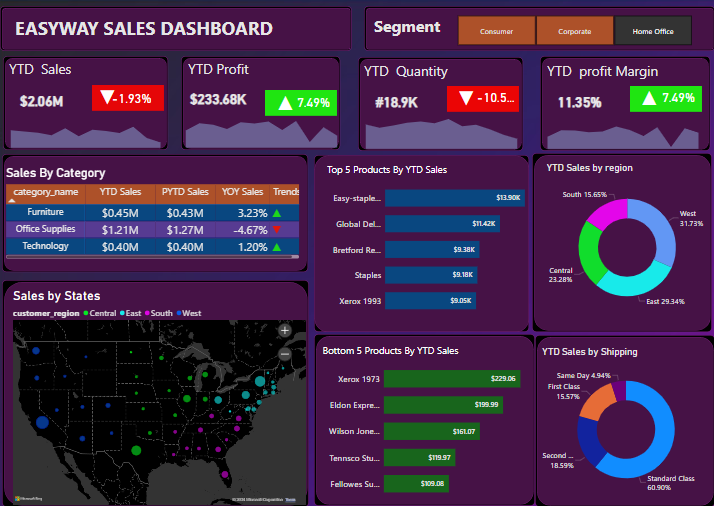

The page's visual inventory and layout, read from the dashboard file:
{"tool":"powerbi","page":{"name":"Page 1","canvas":[1700,1200],"ordinal":0},"visuals":[{"type":"group","id":"g1","title":"Group 1","box":[869.3,16.5,829.1,106.3],"z":0},{"type":"shape","box":[869.3,16.5,829.1,106.3],"z":0,"group":"g1"},{"type":"shape","box":[10,17.1,722.8,106.3],"z":0,"group":"g10"},{"type":"textbox","box":[26.5,33.6,699.2,73.2],"z":1000,"group":"g10"},{"type":"card","fields":{"Values":["Calender.YTD Sales"]},"box":[28.3,224.4,184.3,75.6],"z":1000},{"type":"shape","box":[437.5,134.6,375.6,222],"z":2000,"group":"g3"},{"type":"shape","box":[14.2,663.8,725.2,536.2],"z":2000},{"type":"shape","box":[16.5,134.6,389.8,222],"z":3000,"group":"g2"},{"type":"shape","box":[635.9,214.9,170.1,61.4],"z":3000,"group":"g3"},{"type":"areaChart","fields":{"Category":["Calender.Month"]},"box":[850.4,304.7,406.3,73.2],"z":3000},{"type":"shape","box":[1266.1,363.8,425.2,422.8],"z":3000,"group":"g8"},{"type":"shape","box":[1272.7,794.9,425.2,406.3],"z":3000,"group":"g9"},{"type":"shape","box":[226.8,203.1,170.1,61.4],"z":4000,"group":"g2"},{"type":"shape","box":[751.2,791.3,522,406.3],"z":4000},{"type":"group","id":"g2","title":"Group 2","box":[0,134.6,406.3,222],"z":5000},{"type":"card","fields":{"Values":["ecommerce_data.YOY_Profit"]},"box":[695,210.2,111,66.1],"z":5000,"group":"g3"},{"type":"areaChart","fields":{"Y":["Sum(ecommerce_data.sales_per_order)"],"Category":["Calender.Month"]},"box":[0,283.4,406.3,73.2],"z":5000,"group":"g2"},{"type":"group","id":"g3","title":"Group 3","box":[429.9,134.6,394.5,222],"z":6000},{"type":"shape","box":[1285.4,134.6,401.6,224.4],"z":6000,"group":"g5"},{"type":"shape","box":[855.1,137,389.8,222],"z":6000,"group":"g4"},{"type":"shape","box":[14.2,365.8,722.8,278.7],"z":6000,"group":"g6"},{"type":"group","id":"g4","title":"Group 4","box":[855.1,137,394.5,222],"z":7000},{"type":"card","fields":{"Values":["ecommerce_data.YOY"]},"box":[264.6,200.7,111,66.1],"z":7000,"group":"g2"},{"type":"card","fields":{"Values":["ecommerce_data.Profit Icon"]},"box":[647.7,210.2,73.2,63.8],"z":7000,"group":"g3"},{"type":"shape","box":[751.2,368.5,507.9,418.1],"z":7000,"group":"g7"},{"type":"group","id":"g5","title":"Group 4","box":[1285.4,134.6,401.6,224.4],"z":8000},{"type":"card","fields":{"Values":["ecommerce_data.Sales icon"]},"box":[226.8,196,73.2,63.8],"z":9000,"group":"g2"},{"type":"shape","box":[1065.3,205.5,170.1,61.4],"z":9000,"group":"g4"},{"type":"shape","box":[1497.7,205.5,170.1,61.4],"z":9000,"group":"g5"},{"type":"barChart","title":"Bottom 5 Products By YTD Sales ","fields":{"Y":["Calender.YTD Sales"],"Category":["ecommerce_data.product_name"]},"box":[751.2,793.7,522,403.9],"z":9000},{"type":"map","title":" Sales by States","fields":{"Y":["us_state_long_lat_codes.latitude"],"X":["us_state_long_lat_codes.longitude"],"Size":["Calender.YTD Sales"],"Series":["ecommerce_data.customer_region"]},"box":[35.4,663.8,701.6,536.2],"z":10000},{"type":"group","id":"g6","title":"Group 5","box":[14.2,365.8,722.8,278.7],"z":11000},{"type":"group","id":"g7","title":"Group 7","box":[751.2,368.5,507.9,418.1],"z":12000},{"type":"pivotTable","title":"Sales By Category","fields":{"Rows":["ecommerce_data.category_name"],"Values":["Calender.YTD Sales","ecommerce_data.PYTD Sales","ecommerce_data.YOY Sales","ecommerce_data.Sales icon"]},"box":[18.9,394.5,701.6,224.4],"z":12000,"group":"g6"},{"type":"areaChart","fields":{"Category":["Calender.Month"],"Y":["Sum(ecommerce_data.profit_per_order)"]},"box":[429.9,261.5,394.5,94.5],"z":13000,"group":"g3"},{"type":"group","id":"g8","title":"Group 8","box":[1266.1,363.8,425.2,422.8],"z":13000},{"type":"barChart","title":"Top 5 Products By YTD Sales ","fields":{"Y":["Calender.YTD Sales"],"Category":["ecommerce_data.product_name"]},"box":[777.2,371,479.5,393.5],"z":13000,"group":"g7"},{"type":"donutChart","title":"YTD Sales by region","fields":{"Y":["Calender.YTD Sales"],"Category":["ecommerce_data.customer_region"]},"box":[1280.6,368.9,406.3,394.5],"z":13008,"group":"g8"},{"type":"donutChart","title":"YTD Sales by Shipping","fields":{"Y":["Calender.YTD Sales"],"Category":["ecommerce_data.shipping_type"]},"box":[1284.5,821.5,406.3,334.6],"z":13008,"group":"g9"},{"type":"card","fields":{"Values":["ecommerce_data.YTD_profit"]},"box":[449.3,196,151.2,75.6],"z":14000,"group":"g3"},{"type":"group","id":"g9","title":"Group 8","box":[1272.7,794.9,425.2,406.3],"z":14000},{"type":"slicer","fields":{"Values":["ecommerce_data.customer_segment"]},"box":[1065.4,23.6,602.4,92.1],"z":15000},{"type":"card","fields":{"Values":["ecommerce_data.YOY Order_quantity"]},"box":[1124.4,198.4,111,66.1],"z":15000,"group":"g4"},{"type":"card","fields":{"Values":["ecommerce_data.YOY_Profit"]},"box":[1556.7,198.4,111,66.1],"z":15000,"group":"g5"},{"type":"group","id":"g10","title":"Group 1","box":[10,17.1,722.8,106.3],"z":16000},{"type":"textbox","box":[449.3,137,170.1,66.1],"z":16000,"group":"g3"},{"type":"textbox","box":[888.2,33.1,193.7,82.7],"z":16001},{"type":"card","fields":{"Values":["Calender.YTD Sales"]},"box":[16.5,207.8,181.9,63.8],"z":17000,"group":"g2"},{"type":"areaChart","fields":{"Category":["Calender.Month"],"Y":["Sum(ecommerce_data.order_quantity)"]},"box":[855.1,266.9,394.5,92.1],"z":17000,"group":"g4"},{"type":"areaChart","fields":{"Category":["Calender.Month"],"Y":["ecommerce_data.Profit margin"]},"box":[1286.5,269.2,392.1,89.8],"z":17000,"group":"g5"},{"type":"textbox","box":[26,137.8,172.4,59.1],"z":18000,"group":"g2"},{"type":"card","fields":{"Values":["ecommerce_data.Quantity Icon"]},"box":[1081.4,199.2,57.7,62.7],"z":21000,"group":"g4"},{"type":"card","fields":{"Values":["ecommerce_data.profit margin Icon"]},"box":[1513.7,199.2,57.7,62.7],"z":21000,"group":"g5"},{"type":"card","fields":{"Values":["ecommerce_data.YTD Concatenate"]},"box":[855.1,210.2,181.9,63.8],"z":24000,"group":"g4"},{"type":"card","fields":{"Values":["ecommerce_data.YTD profit margin"]},"box":[1287.4,210.2,181.9,63.8],"z":24000,"group":"g5"},{"type":"textbox","box":[864.5,141.7,238.6,56.7],"z":25000,"group":"g4"},{"type":"textbox","box":[1297,142.7,298.4,55.2],"z":25000,"group":"g5"}]}

Visuals, with their boxes in screenshot pixels (x1, y1, x2, y2), scaled from the page's 1700x1200 canvas onto the 714x506 screenshot:
"Group 1" group: Rect(365, 7, 713, 52)
shape: Rect(365, 7, 713, 52)
shape: Rect(4, 7, 308, 52)
textbox: Rect(11, 14, 305, 45)
card - Calender.YTD Sales: Rect(12, 95, 89, 126)
shape: Rect(184, 57, 342, 150)
shape: Rect(6, 280, 311, 505)
shape: Rect(7, 57, 171, 150)
shape: Rect(267, 91, 339, 117)
areaChart - Calender.Month: Rect(357, 128, 528, 159)
shape: Rect(532, 153, 710, 332)
shape: Rect(535, 335, 713, 505)
shape: Rect(95, 86, 167, 112)
shape: Rect(316, 334, 535, 505)
"Group 2" group: Rect(0, 57, 171, 150)
card - ecommerce_data.YOY_Profit: Rect(292, 89, 339, 117)
areaChart - Sum(ecommerce_data.sales_per_order) x Calender.Month: Rect(0, 120, 171, 150)
"Group 3" group: Rect(181, 57, 346, 150)
shape: Rect(540, 57, 709, 151)
shape: Rect(359, 58, 523, 151)
shape: Rect(6, 154, 310, 272)
"Group 4" group: Rect(359, 58, 525, 151)
card - ecommerce_data.YOY: Rect(111, 85, 158, 113)
card - ecommerce_data.Profit Icon: Rect(272, 89, 303, 116)
shape: Rect(316, 155, 529, 332)
"Group 4" group: Rect(540, 57, 709, 151)
card - ecommerce_data.Sales icon: Rect(95, 83, 126, 110)
shape: Rect(447, 87, 519, 113)
shape: Rect(629, 87, 700, 113)
"Bottom 5 Products By YTD Sales " barChart: Rect(316, 335, 535, 505)
" Sales by States" map: Rect(15, 280, 310, 505)
"Group 5" group: Rect(6, 154, 310, 272)
"Group 7" group: Rect(316, 155, 529, 332)
"Sales By Category" pivotTable: Rect(8, 166, 303, 261)
areaChart - Calender.Month x Sum(ecommerce_data.profit_per_order): Rect(181, 110, 346, 150)
"Group 8" group: Rect(532, 153, 710, 332)
"Top 5 Products By YTD Sales " barChart: Rect(326, 156, 528, 322)
"YTD Sales by region" donutChart: Rect(538, 156, 708, 322)
"YTD Sales by Shipping" donutChart: Rect(539, 346, 710, 487)
card - ecommerce_data.YTD_profit: Rect(189, 83, 252, 115)
"Group 8" group: Rect(535, 335, 713, 505)
slicer - ecommerce_data.customer_segment: Rect(447, 10, 700, 49)
card - ecommerce_data.YOY Order_quantity: Rect(472, 84, 519, 112)
card - ecommerce_data.YOY_Profit: Rect(654, 84, 700, 112)
"Group 1" group: Rect(4, 7, 308, 52)
textbox: Rect(189, 58, 260, 86)
textbox: Rect(373, 14, 454, 49)
card - Calender.YTD Sales: Rect(7, 88, 83, 115)
areaChart - Calender.Month x Sum(ecommerce_data.order_quantity): Rect(359, 113, 525, 151)
areaChart - Calender.Month x ecommerce_data.Profit margin: Rect(540, 114, 705, 151)
textbox: Rect(11, 58, 83, 83)
card - ecommerce_data.Quantity Icon: Rect(454, 84, 478, 110)
card - ecommerce_data.profit margin Icon: Rect(636, 84, 660, 110)
card - ecommerce_data.YTD Concatenate: Rect(359, 89, 436, 116)
card - ecommerce_data.YTD profit margin: Rect(541, 89, 617, 116)
textbox: Rect(363, 60, 463, 84)
textbox: Rect(545, 60, 670, 83)
